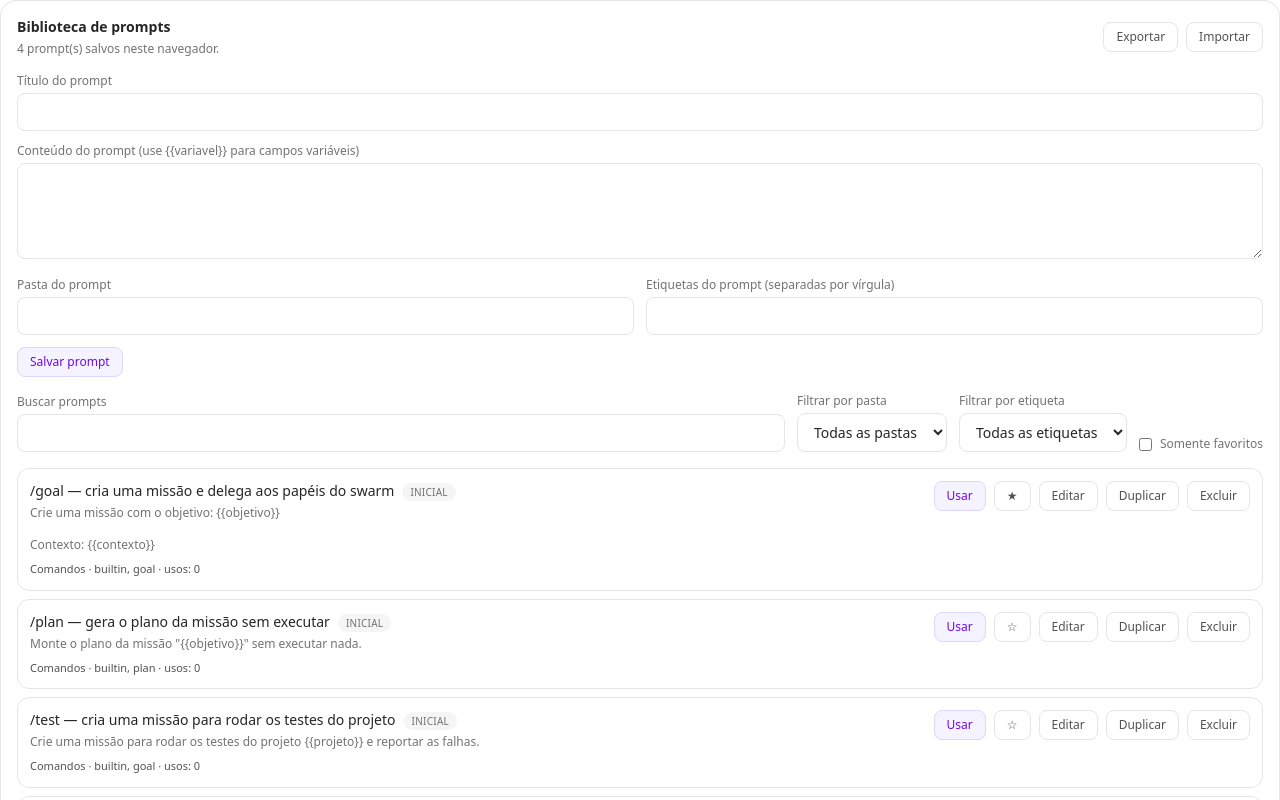
Test: PromptLibraryPanel › edita, duplica e exclui um prompt
Click the 2nd button "Editar". click: point(1068, 626)
box: [1038,612,1098,642]
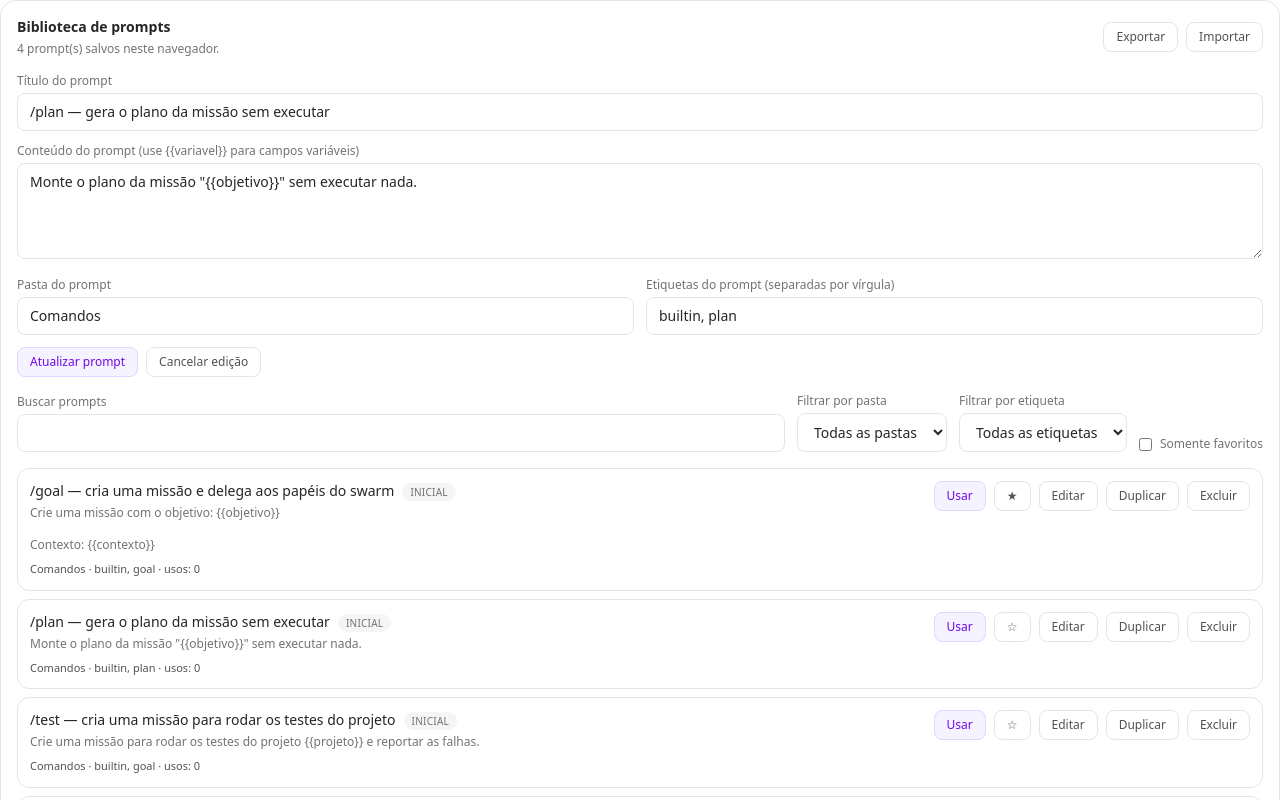
Replace the text in the field labelled "Título do prompt" with "Plano revisado". click: point(640, 112)
box: [17,93,1263,131]
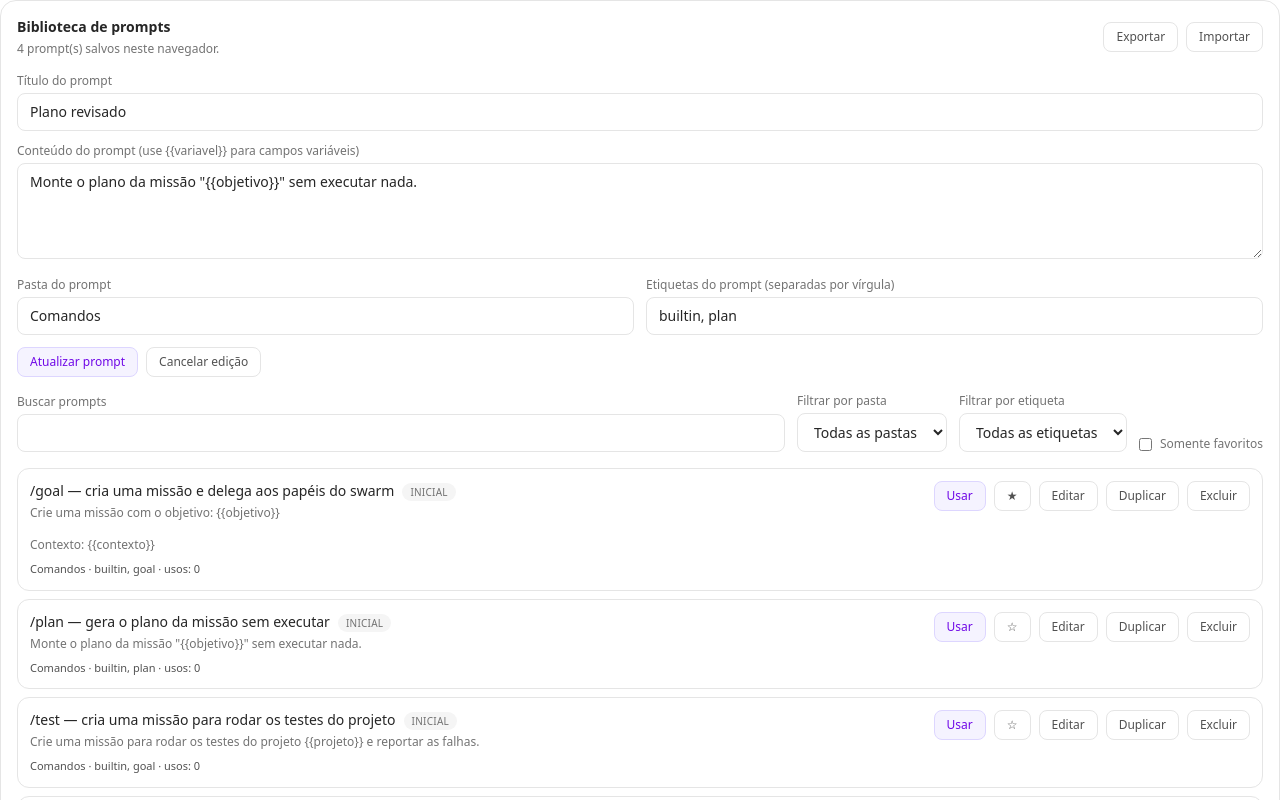
Submit the form, box [17,73,1263,377]
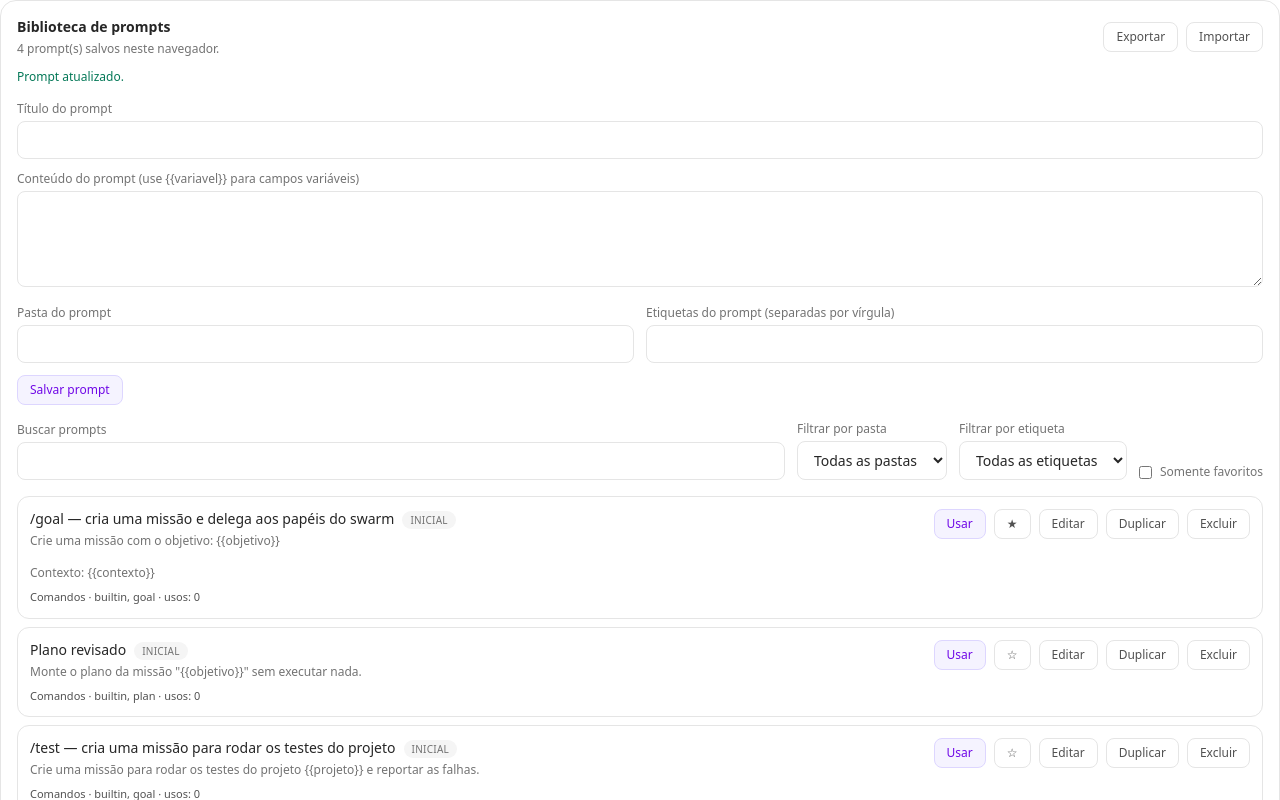
Expected: the text "Prompt atualizado." is shown, [17,68,124,85]
Expected: the text "Plano revisado" is shown, [30,640,126,658]
Click the button "Duplicar" in the row of "Plano revisado". click: point(1142, 654)
box: [1106,640,1179,670]
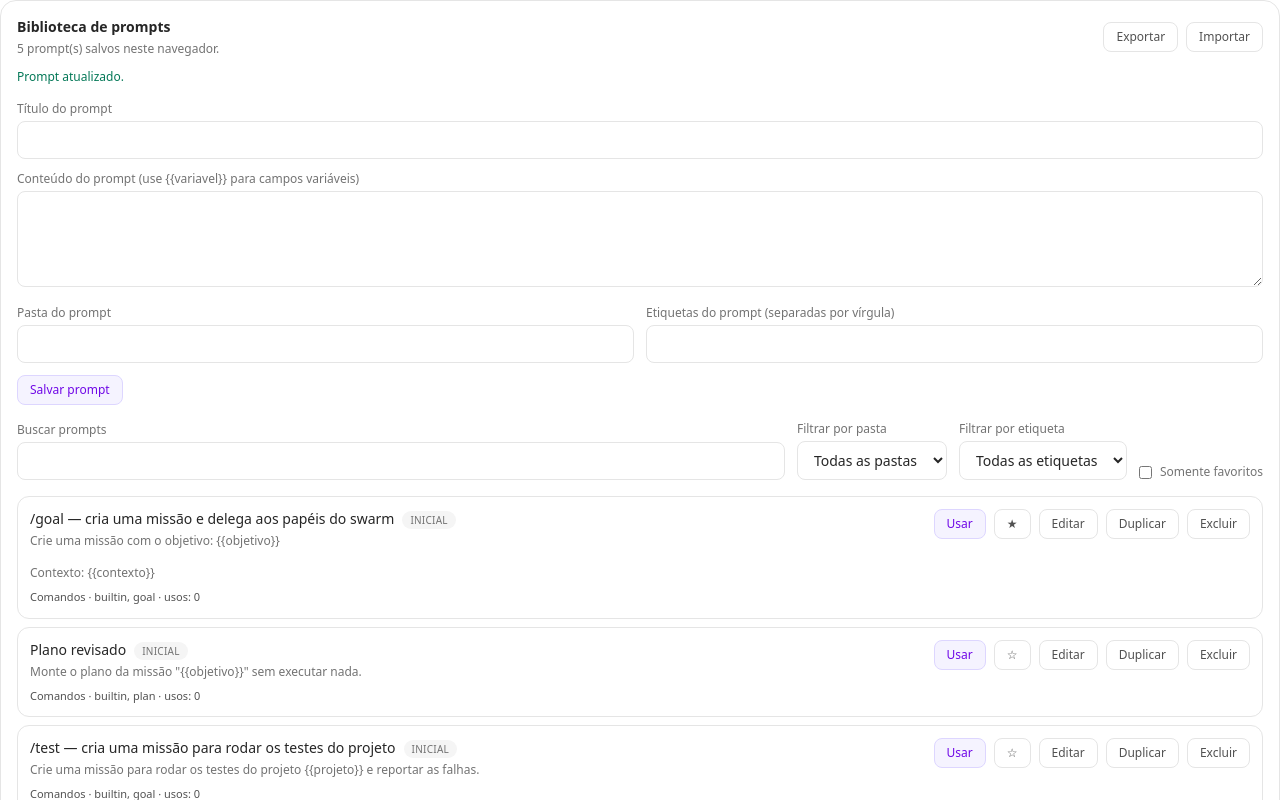
Click the 2nd button "Excluir". click: point(1218, 654)
box: [1187,640,1250,670]
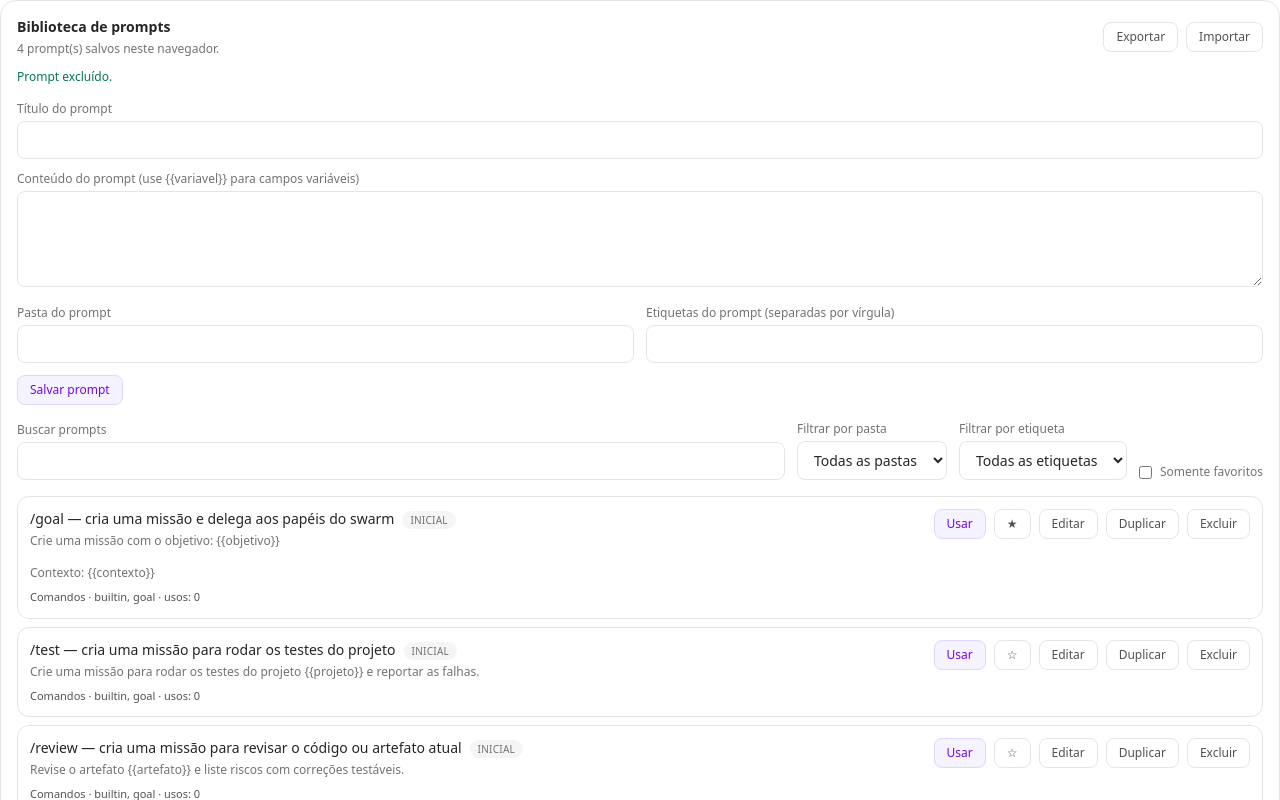
Expected: the text "Prompt excluído." is shown, [17,68,112,85]
